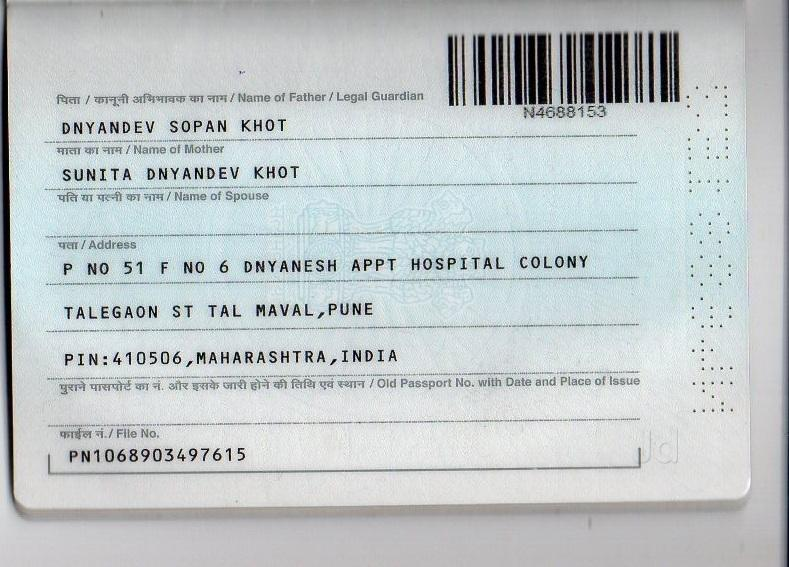File_no: (60, 446, 264, 473)
address: (48, 251, 619, 371)
father_name: (52, 109, 308, 144)
mother_name: (50, 158, 311, 188)
passport_no: (512, 100, 610, 126)
